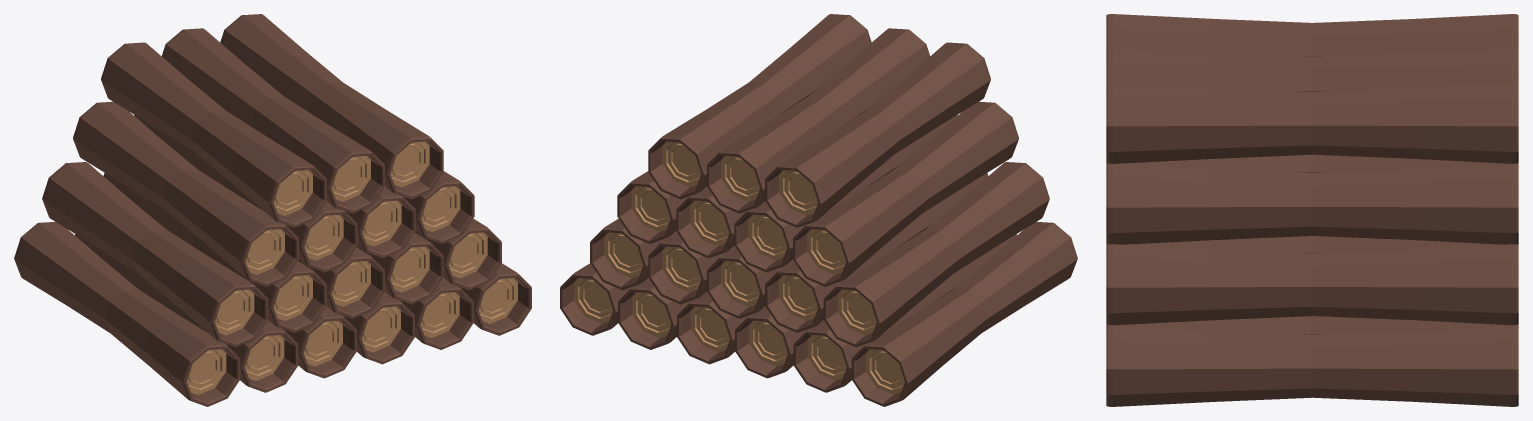
File: Log Pile.fbx
3 renders of one model, left to right at view 1: azimuth 30°, elevation 25°; view 2: azimuth 150°, elevation 25°; view 3: azimuth 270°, elevation 25°, orthographic. The views are drawn at different scales.
Visible parts, largest first — view 1: Cylinder.016; view 2: Cylinder.016; view 3: Cylinder.016.
Boxes of the visible parts, x1,y1,x2,y2 form: Cylinder.016: [14, 14, 531, 406]; Cylinder.016: [560, 14, 1077, 406]; Cylinder.016: [1106, 14, 1518, 406].
Size of the model in its own units: 1173 by 703 by 992.
